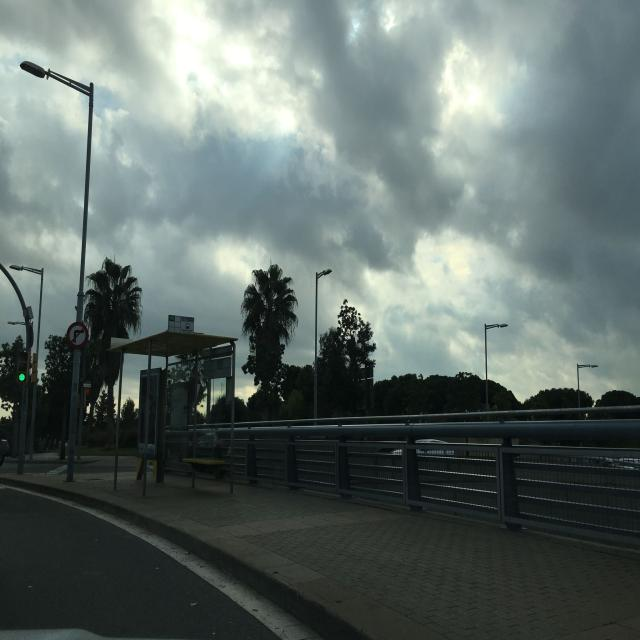car: (0, 424, 11, 466)
